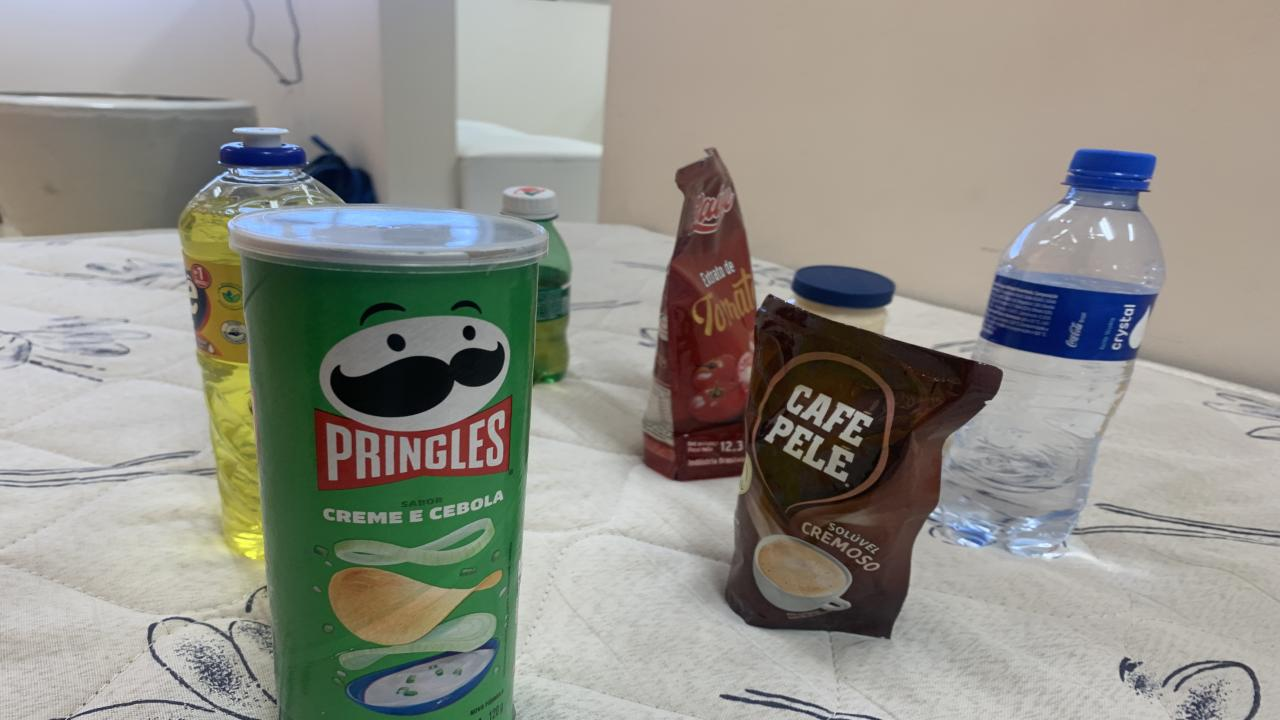Coffee-Pantry_Items: (725, 296, 1000, 638)
Detergent-Cleanup_Items: (178, 128, 342, 559)
Guarana-Drinks: (502, 186, 572, 382)
Mayonnaise-Pantry_Items: (792, 266, 895, 334)
Pringles-Snacks: (230, 206, 548, 718)
Tomato_Sauce-Pantry_Items: (642, 148, 755, 480)
Water_Bottle-Drinks: (932, 150, 1165, 557)
